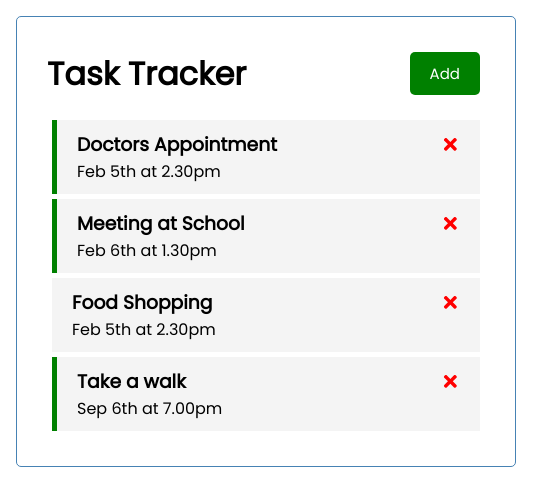
Test: Add Task Test › can remove first task out of the four tasks
The image size is (533, 484).
Expected: the number of elements with class "task" is 4, 52,120 -> 480,194; 52,199 -> 480,273; 52,278 -> 480,352; 52,357 -> 480,431
Click the icon with id "remove".
click(451, 145)  # box 441,135 -> 460,154
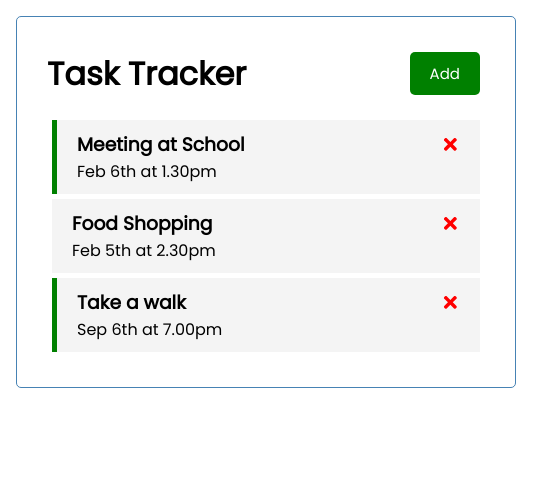
Expected: the number of elements with class "task" is 3, 52,120 -> 480,194; 52,199 -> 480,273; 52,278 -> 480,352
